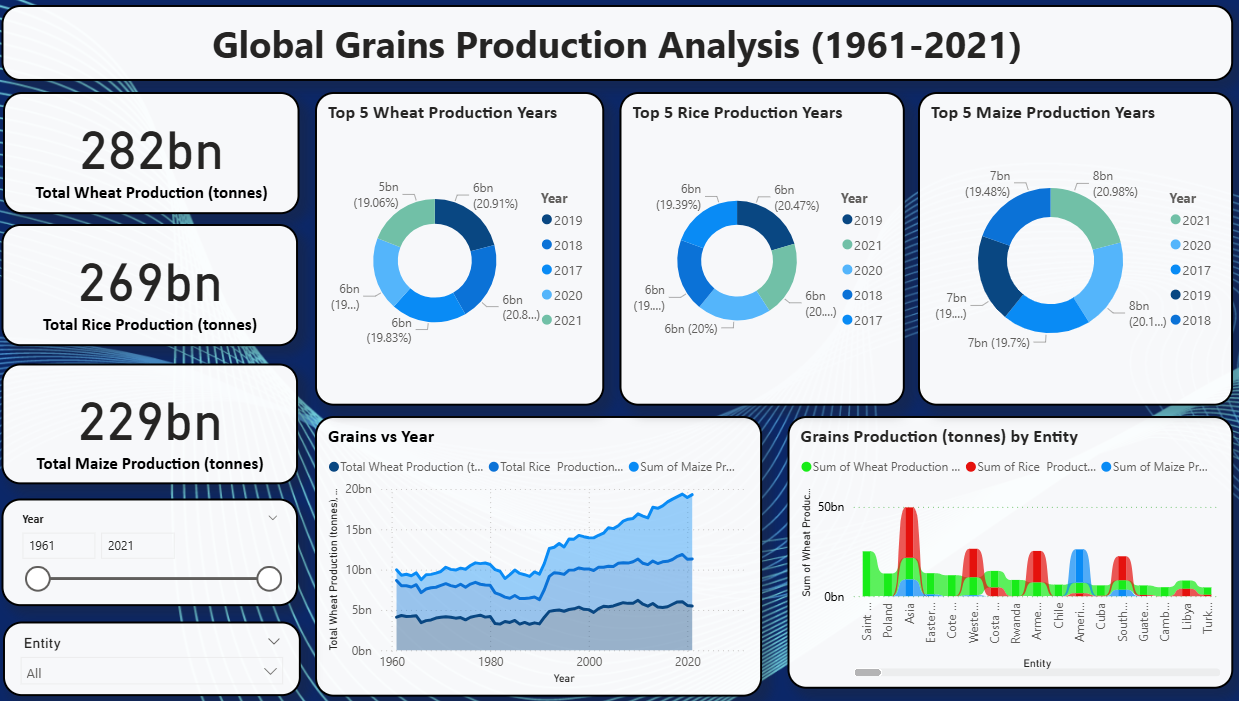

The page's visual inventory and layout, read from the dashboard file:
{"tool":"powerbi","page":{"name":"Global Grain Analysis","canvas":[1280,720],"ordinal":0},"visuals":[{"type":"textbox","box":[16.7,15,1243.3,76.7],"z":0},{"type":"card","fields":{"Values":["Sum(world food production.Wheat Production (tonnes))"]},"box":[17.8,102.9,299.2,123.5],"z":1000},{"type":"card","fields":{"Values":["Sum(world food production.Rice  Production ( tonnes))"]},"box":[16.5,236,299.2,123.5],"z":2000},{"type":"card","fields":{"Values":["Sum(world food production.Maize Production (tonnes))"]},"box":[16.5,377.4,299.2,122.1],"z":3000},{"type":"stackedAreaChart","title":"Grains vs Year","fields":{"Category":["world food production.Year"],"Y":["Sum(world food production.Wheat Production (tonnes))","Sum(world food production.Rice  Production ( tonnes))","Sum(world food production.Maize Production (tonnes))"]},"box":[346.8,430,439.1,275.6],"z":4000},{"type":"donutChart","title":"Top 5 Wheat Production Years ","fields":{"Category":["world food production.Year"],"Y":["Sum(world food production.Wheat Production (tonnes))"]},"box":[333.1,103,292.2,316.5],"z":5000},{"type":"slicer","fields":{"Values":["world food production.Year"]},"box":[16.5,513.3,299.2,108.4],"z":6000},{"type":"ribbonChart","title":"Grains Production (tonnes) by Entity","fields":{"Category":["world food production.Entity"],"Y":["Sum(world food production.Wheat Production (tonnes))","Sum(world food production.Rice  Production ( tonnes))","Sum(world food production.Maize Production (tonnes))"]},"box":[810.1,430,439.1,275.6],"z":7000},{"type":"slicer","fields":{"Values":["world food production.Entity"]},"box":[17.8,638.1,300.5,75.5],"z":8000},{"type":"donutChart","title":"Top 5 Rice Production Years ","fields":{"Category":["world food production.Year"],"Y":["Sum(world food production.Rice  Production ( tonnes))"]},"box":[640.5,103,287.7,316.5],"z":9000},{"type":"donutChart","title":"Top 5 Maize Production Years ","fields":{"Category":["world food production.Year"],"Y":["Sum(world food production.Maize Production (tonnes))"]},"box":[941.8,103,307.4,316.5],"z":10000}]}

Visuals, with their boxes in screenshot pixels (x1, y1, x2, y2), scaled from the page's 1280x720 canvas onto the 1239x701 screenshot:
textbox: box=[16, 15, 1220, 89]
card - Sum(world food production.Wheat Production (tonnes)): box=[17, 100, 307, 220]
card - Sum(world food production.Rice  Production ( tonnes)): box=[16, 230, 306, 350]
card - Sum(world food production.Maize Production (tonnes)): box=[16, 367, 306, 486]
"Grains vs Year" stackedAreaChart: box=[336, 419, 761, 687]
"Top 5 Wheat Production Years " donutChart: box=[322, 100, 605, 408]
slicer - world food production.Year: box=[16, 500, 306, 605]
"Grains Production (tonnes) by Entity" ribbonChart: box=[784, 419, 1209, 687]
slicer - world food production.Entity: box=[17, 621, 308, 695]
"Top 5 Rice Production Years " donutChart: box=[620, 100, 898, 408]
"Top 5 Maize Production Years " donutChart: box=[912, 100, 1209, 408]
